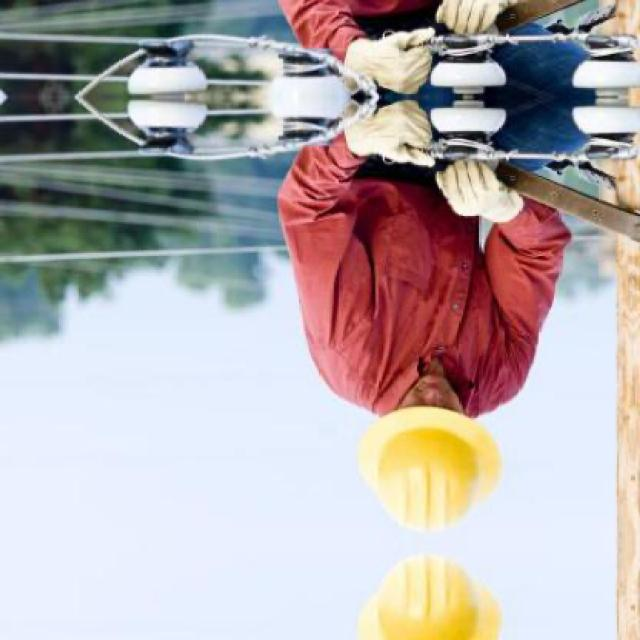con casco: (348, 372, 514, 538)
